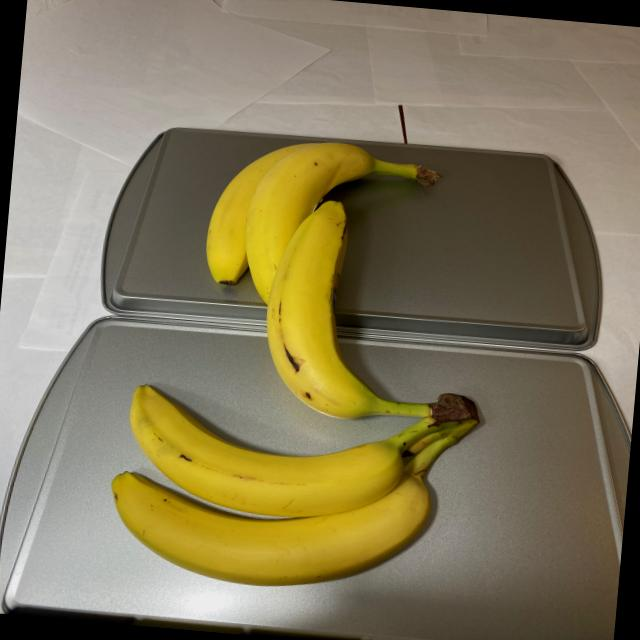banana: (90, 127, 501, 609)
